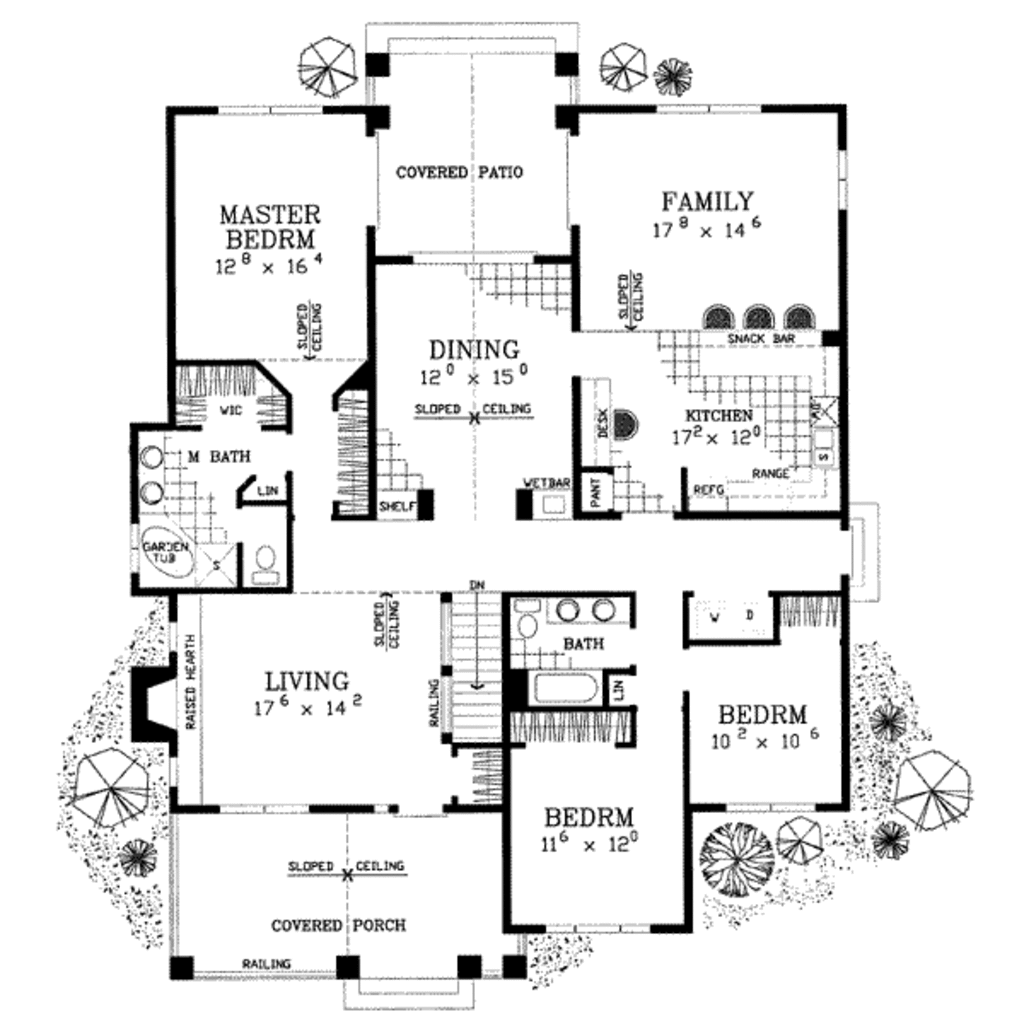large_sink: (247, 543, 295, 587), (515, 595, 550, 647)
small_sink: (547, 590, 638, 628), (133, 432, 168, 511)
stairs: (452, 587, 496, 736)
tub: (522, 670, 612, 708)
window: (217, 95, 330, 124), (650, 89, 758, 119), (717, 795, 823, 822), (834, 136, 861, 225), (541, 916, 646, 938), (206, 805, 306, 819)
